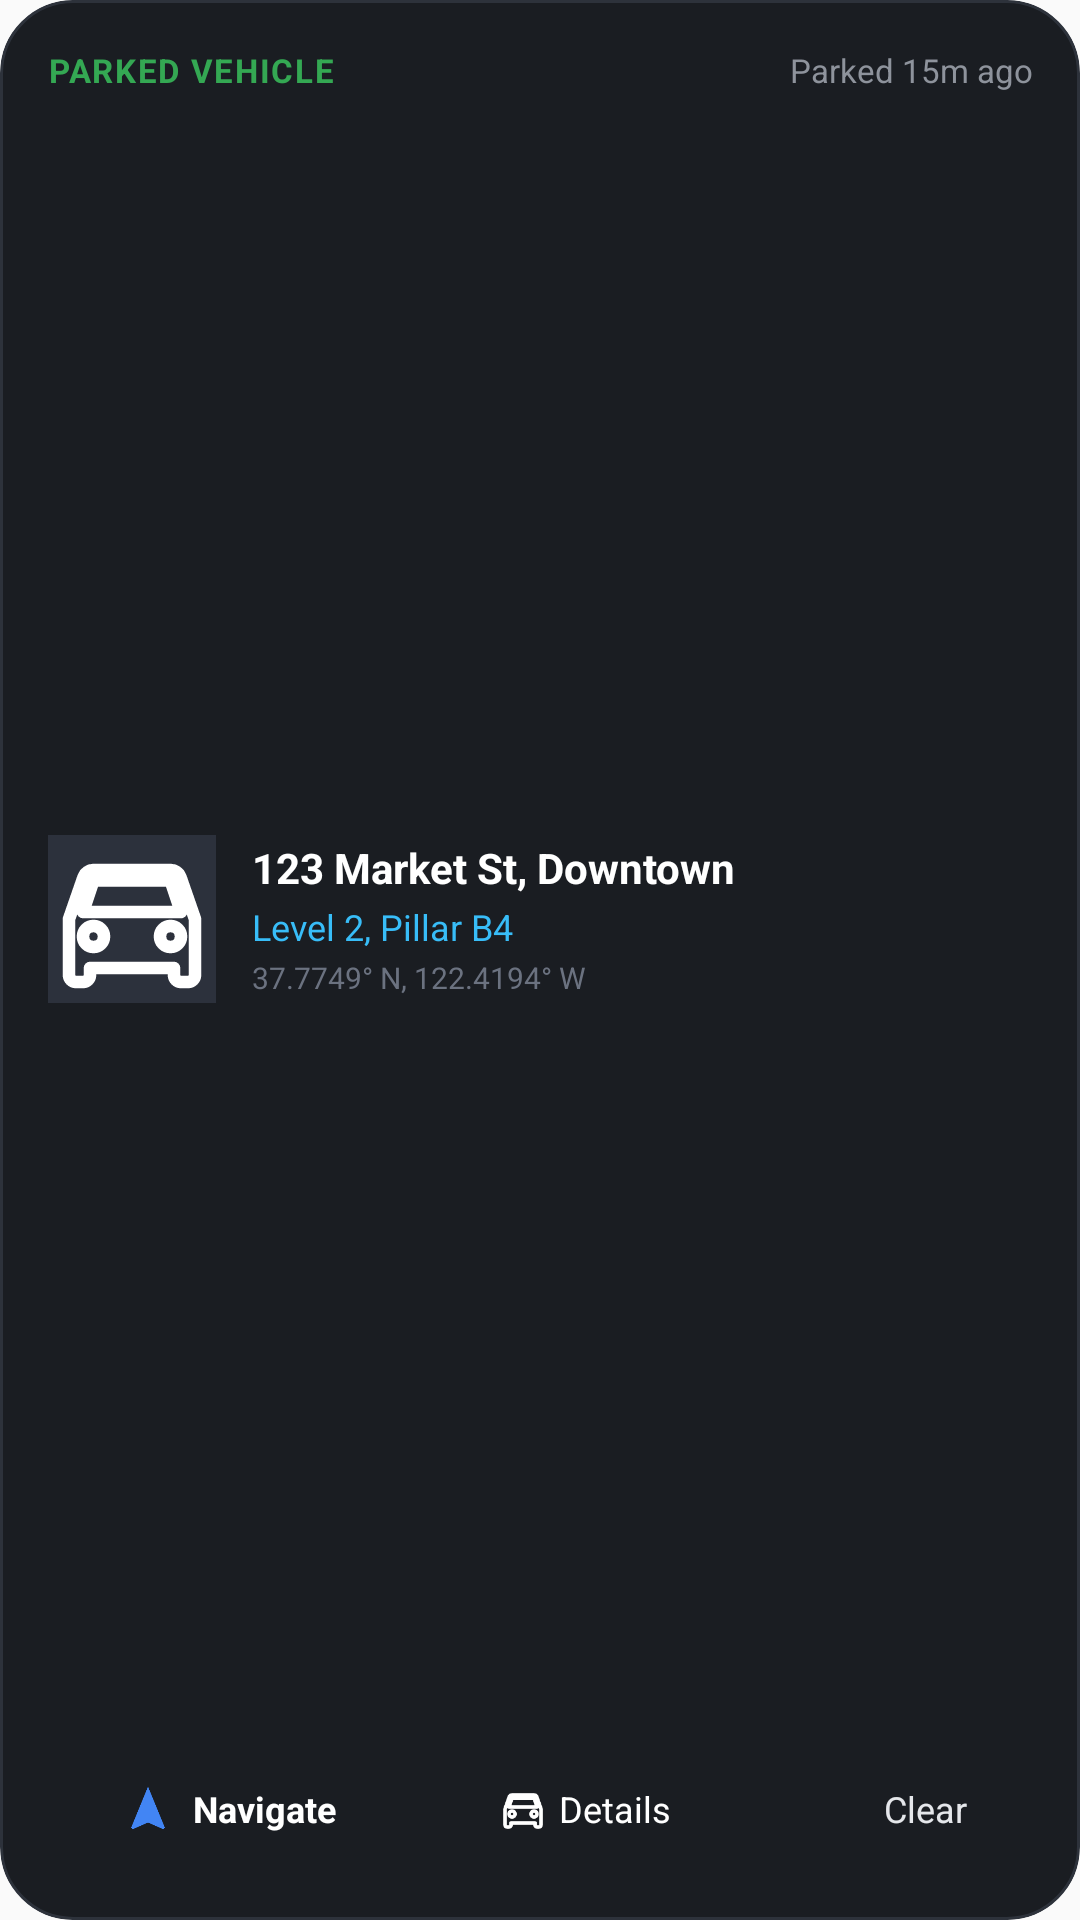

Where icons sit on this 1080 × 1920 app screen, as box=[x1, y1, x2, y2]:
car: box=[503, 1793, 543, 1829]
navigation: box=[131, 1787, 165, 1829]
